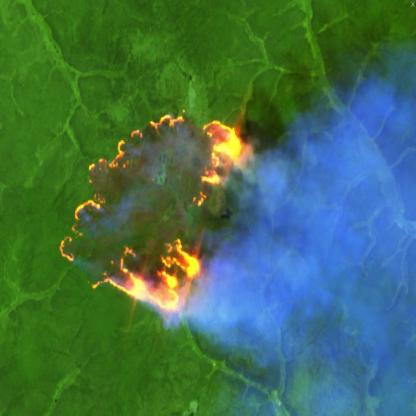fire: (54, 106, 246, 322)
